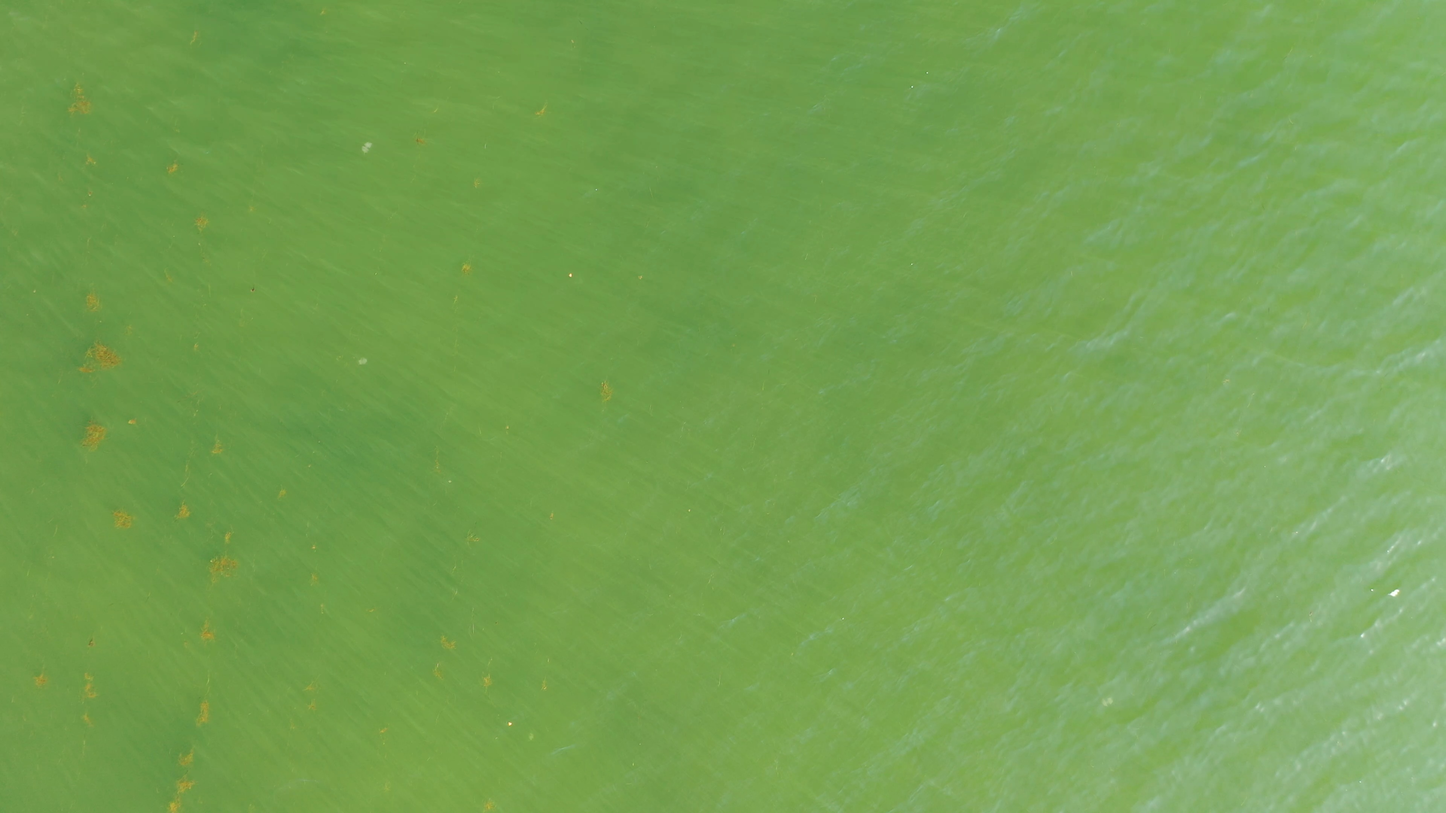meduse: (362, 140, 373, 153), (1103, 698, 1115, 707), (357, 358, 367, 365), (528, 733, 535, 740)
